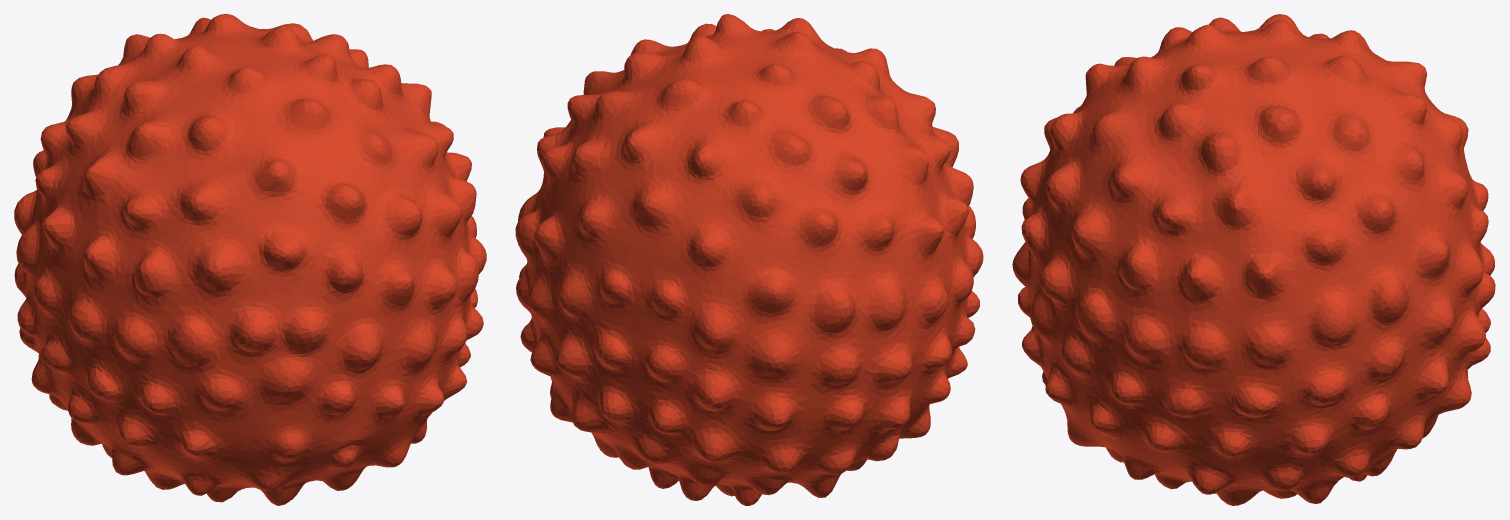
The model's file is toy_21.glb.
The picture shows the model from 3 angles, left to right: view 1: azimuth 30°, elevation 25°; view 2: azimuth 150°, elevation 25°; view 3: azimuth 270°, elevation 25°; orthographic projection. The views are drawn at different scales.
Parts seen in each view (by area): view 1: tripo_node_7cf23b3f-dd70-4b3d-be16-c80a28b43b01; view 2: tripo_node_7cf23b3f-dd70-4b3d-be16-c80a28b43b01; view 3: tripo_node_7cf23b3f-dd70-4b3d-be16-c80a28b43b01.
Part boxes in pixels (x1,y1,x2,y2): tripo_node_7cf23b3f-dd70-4b3d-be16-c80a28b43b01: (14,14,486,505); tripo_node_7cf23b3f-dd70-4b3d-be16-c80a28b43b01: (515,14,983,505); tripo_node_7cf23b3f-dd70-4b3d-be16-c80a28b43b01: (1012,14,1495,505).
Bounding box in the file's own units: 0.9876 × 1 × 0.9953.
1 material, 1 textured.
